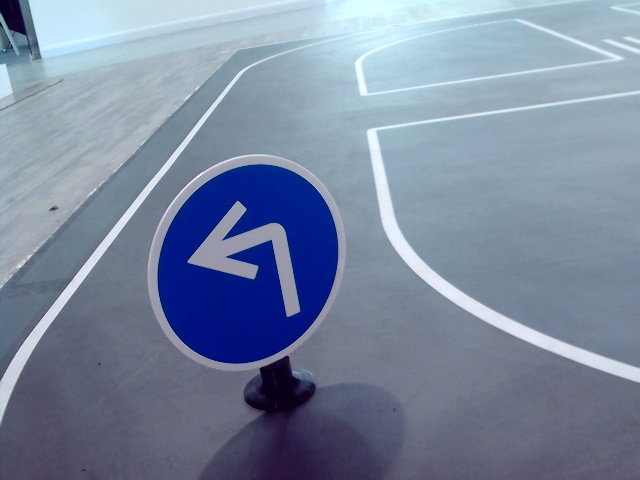turn_left: (184, 202, 303, 322)
